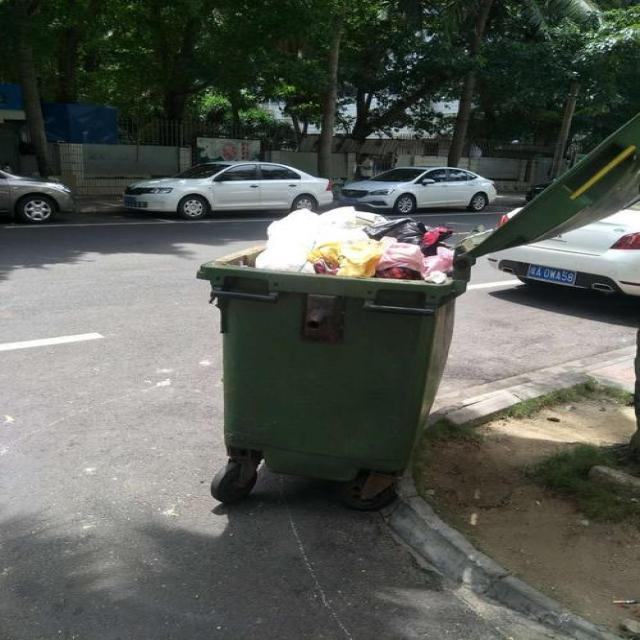overflow: (196, 204, 468, 481)
